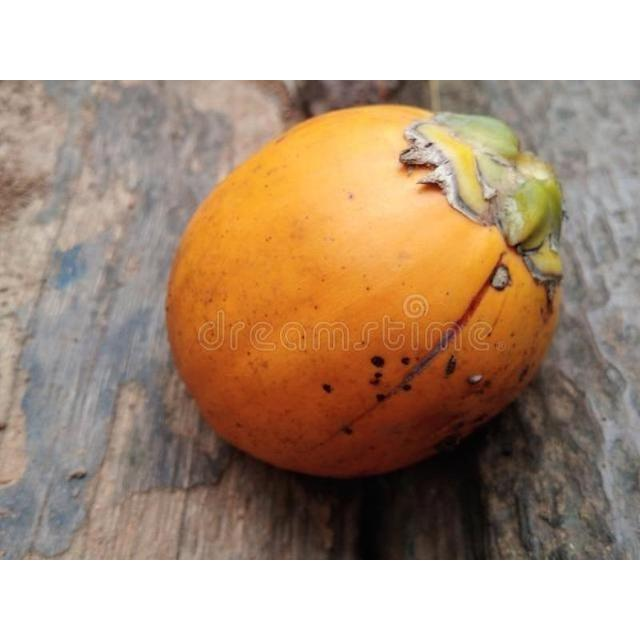good: (164, 103, 565, 482)
